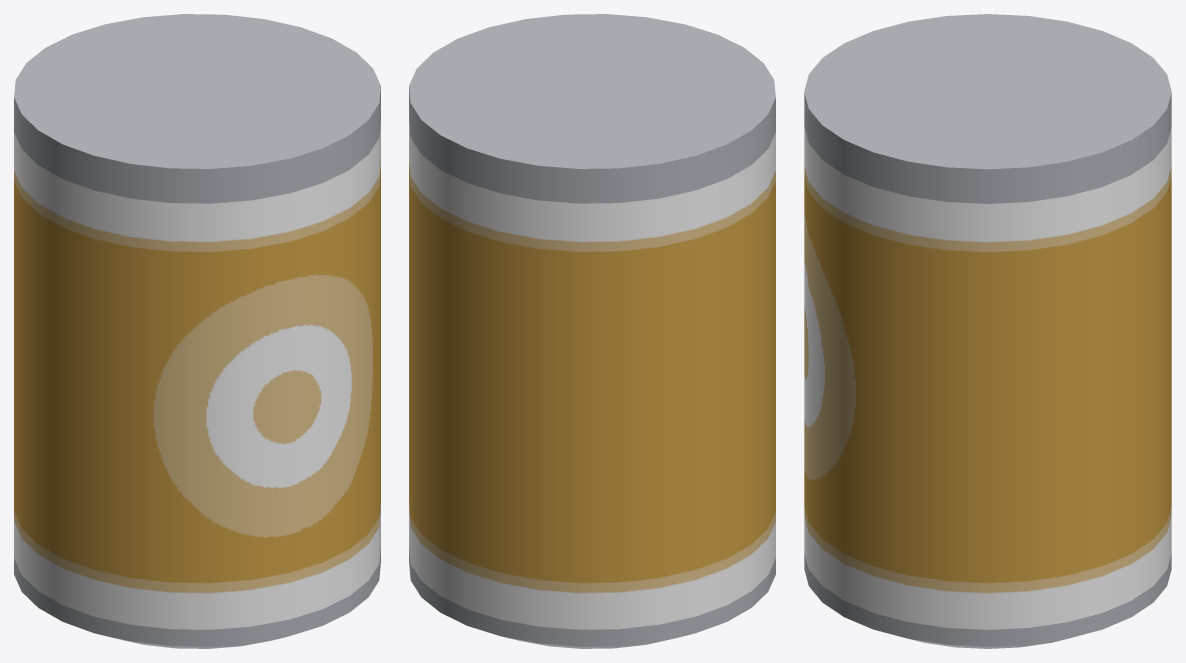
File: Chickpeas.fbx
3 renders of one model, left to right at view 1: azimuth 30°, elevation 25°; view 2: azimuth 150°, elevation 25°; view 3: azimuth 270°, elevation 25°, orthographic.
Visible parts, largest first — view 1: Chickpeas; view 2: Chickpeas; view 3: Chickpeas.
Boxes of the visible parts, x1=… form: Chickpeas: x1=14, y1=14, x2=380, y2=648; Chickpeas: x1=409, y1=14, x2=775, y2=648; Chickpeas: x1=804, y1=14, x2=1171, y2=648.
Bounding box in the file's own units: 0.074 × 0.11 × 0.074.
Materials: 2 (1 with a texture image).
